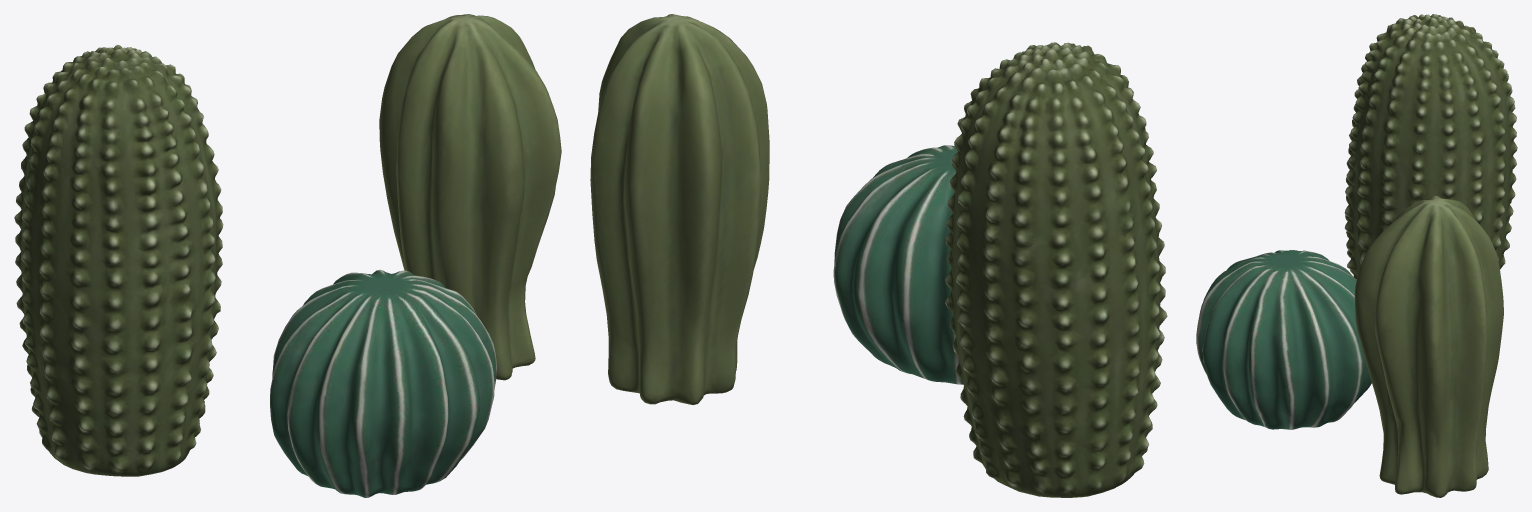
File: sjalsligt-decoration-set-of-3.glb
3 views of the same model, side by side, from view 1: azimuth 30°, elevation 25°; view 2: azimuth 150°, elevation 25°; view 3: azimuth 270°, elevation 25° (orthographic). The views are drawn at different scales.
Parts seen in each view (by area): view 1: ASY_LPT01_00343282_S01_NV01, ASY_LPT03_00343282_S01_NV01, ASY_LPT02_00343282_S01_NV01; view 2: ASY_LPT01_00343282_S01_NV01, ASY_LPT03_00343282_S01_NV01, ASY_LPT02_00343282_S01_NV01; view 3: ASY_LPT03_00343282_S01_NV01, ASY_LPT01_00343282_S01_NV01, ASY_LPT02_00343282_S01_NV01.
Boxes of the visible parts, <box> form: ASY_LPT01_00343282_S01_NV01: <box>14,45,223,476</box>; ASY_LPT03_00343282_S01_NV01: <box>379,14,561,380</box>; ASY_LPT02_00343282_S01_NV01: <box>270,269,496,497</box>; ASY_LPT01_00343282_S01_NV01: <box>945,42,1167,497</box>; ASY_LPT03_00343282_S01_NV01: <box>590,14,769,405</box>; ASY_LPT02_00343282_S01_NV01: <box>833,145,963,384</box>; ASY_LPT03_00343282_S01_NV01: <box>1354,195,1503,497</box>; ASY_LPT01_00343282_S01_NV01: <box>1344,14,1517,279</box>; ASY_LPT02_00343282_S01_NV01: <box>1196,250,1371,429</box>.
Bounding box in the file's own units: 0.2529 × 0.1864 × 0.1683.
3 materials, 3 textured.
